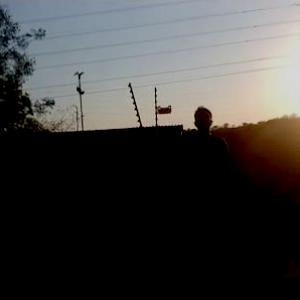follow: (176, 103, 238, 278)
